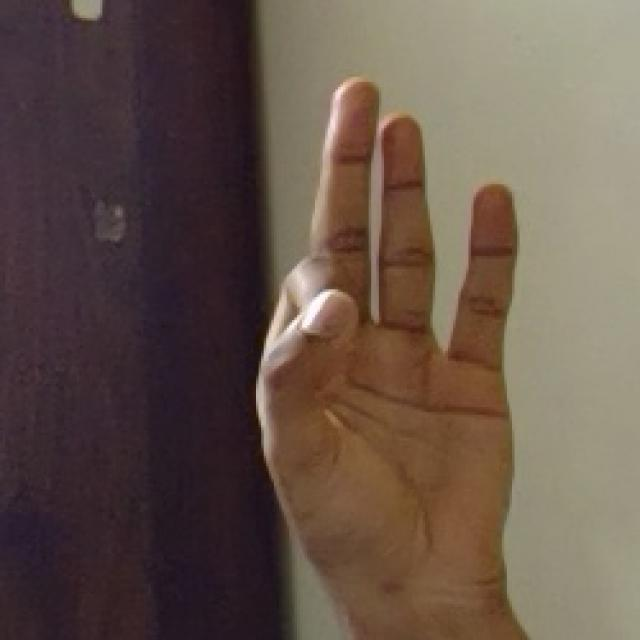Numeric-9: (255, 73, 524, 596)
